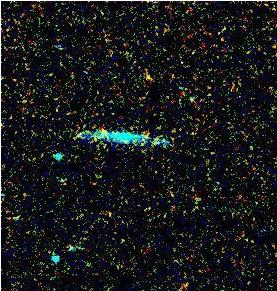star: (86, 116, 116, 146)
